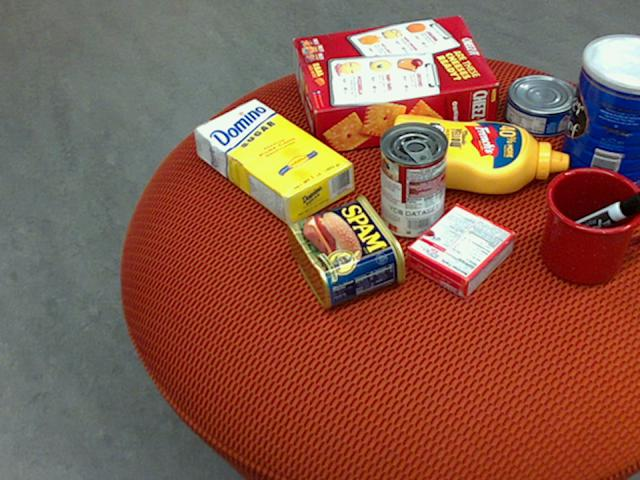cracker_box: (292, 15, 497, 153)
gelatin_box: (405, 205, 516, 300)
large_marker: (544, 189, 639, 249)
master_chef_can: (556, 34, 639, 197)
mug: (540, 166, 639, 284)
mustard_bottle: (386, 114, 567, 193)
potted_meat_can: (285, 193, 405, 308)
sugar_box: (192, 97, 353, 227)
tomato_soup_can: (378, 119, 447, 237)
tuna_fish_can: (501, 74, 577, 135)
